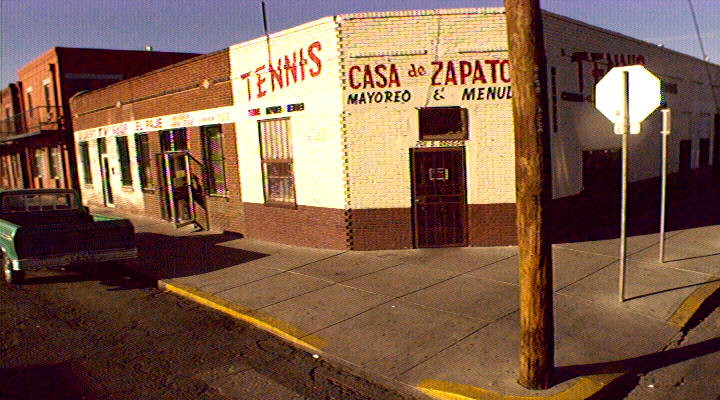Ramp: (551, 281, 701, 396), (298, 313, 447, 400)
